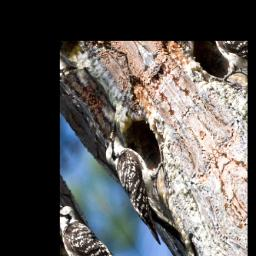Woodpecker: (87, 105, 208, 256)
